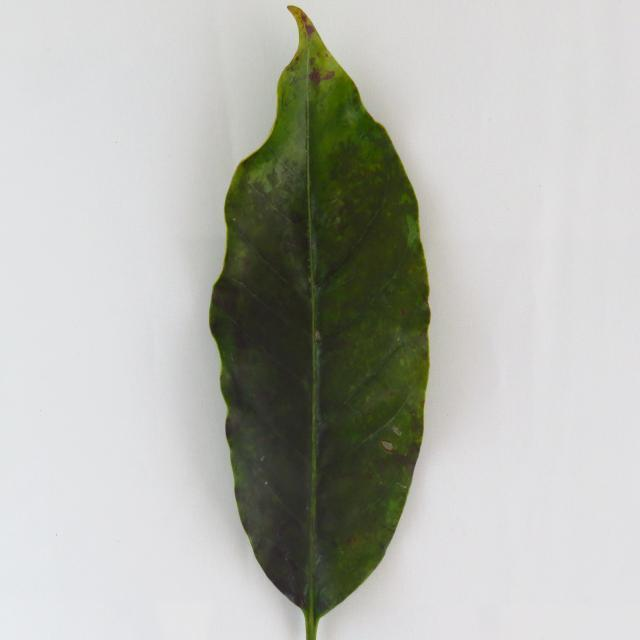DeficienciaNutricional-Calcio: (210, 7, 430, 638)
